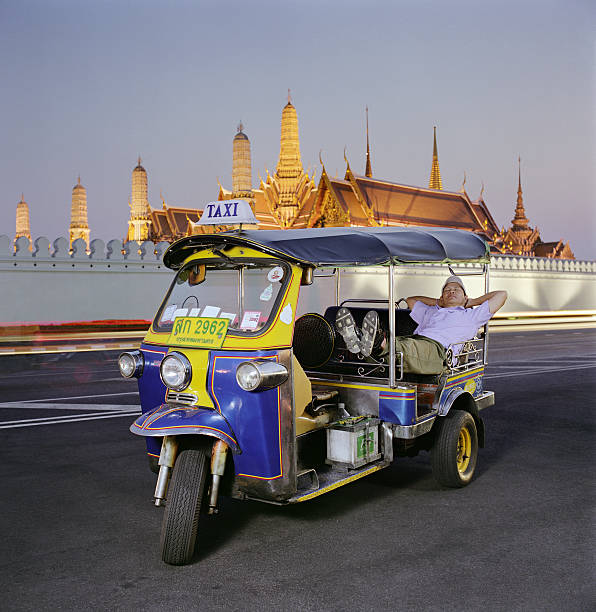threewheel: (116, 199, 493, 566)
